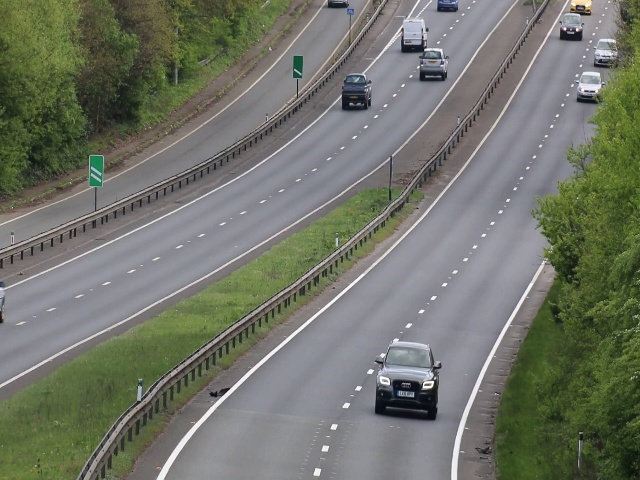car: (376, 342, 439, 420), (341, 73, 372, 110), (399, 17, 428, 54), (421, 47, 447, 82), (578, 69, 603, 103), (560, 13, 583, 42), (594, 38, 617, 67), (435, 1, 460, 13)
